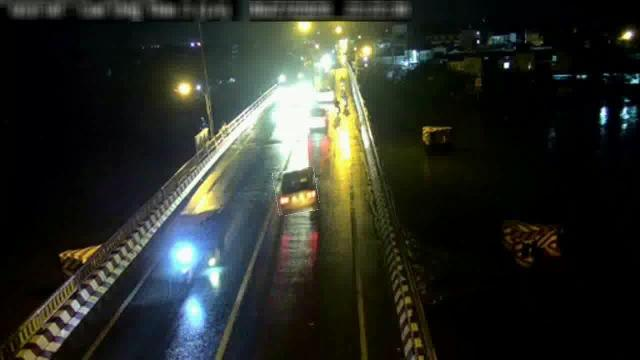Car: (274, 168, 318, 214), (308, 105, 328, 138)
